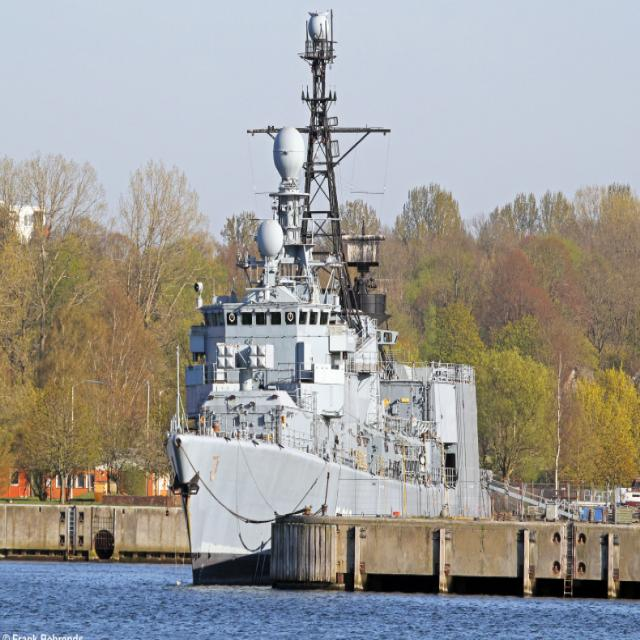Fragata: (161, 1, 487, 590)
